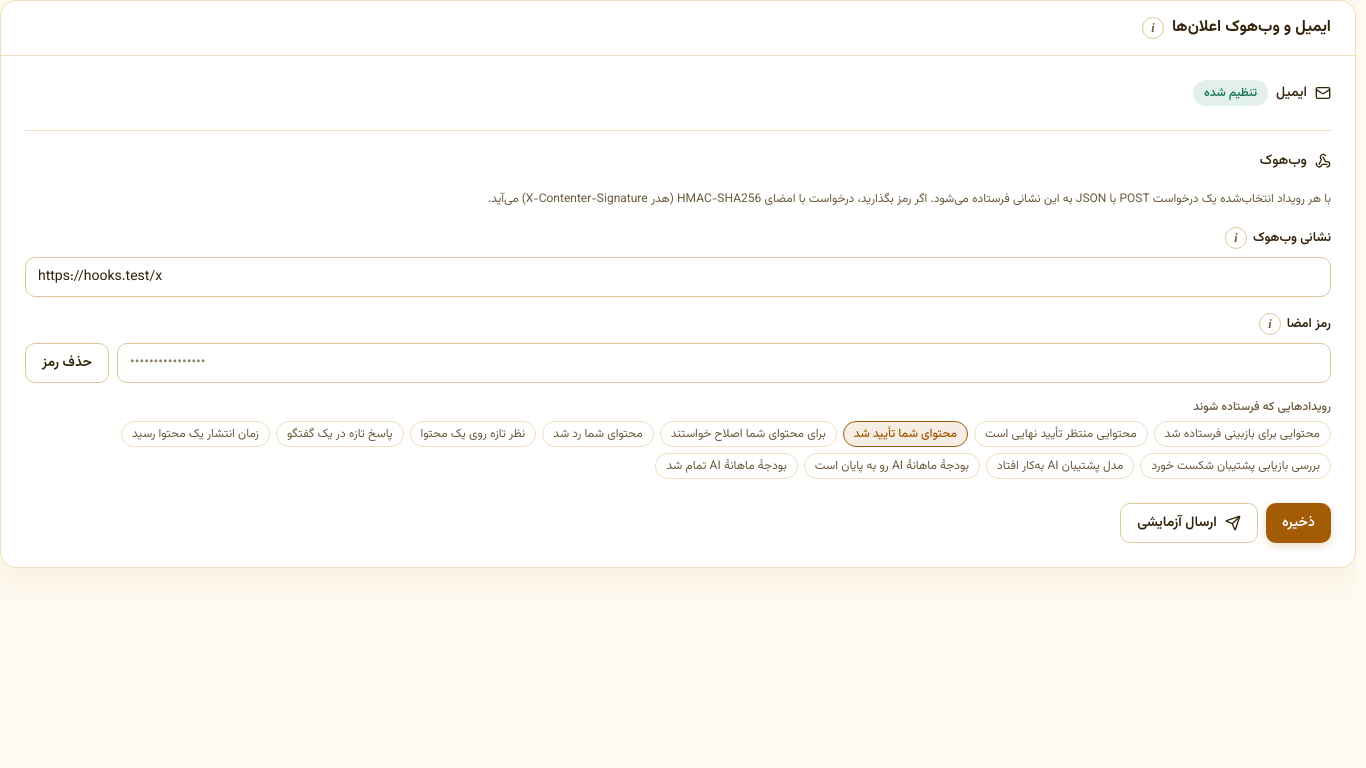
NotificationSettingsCard › refuses a secret that is too short before sending anything
Type "short" into the password field labelled "رمز امضا". click: (724, 363)
box: [117, 343, 1331, 383]
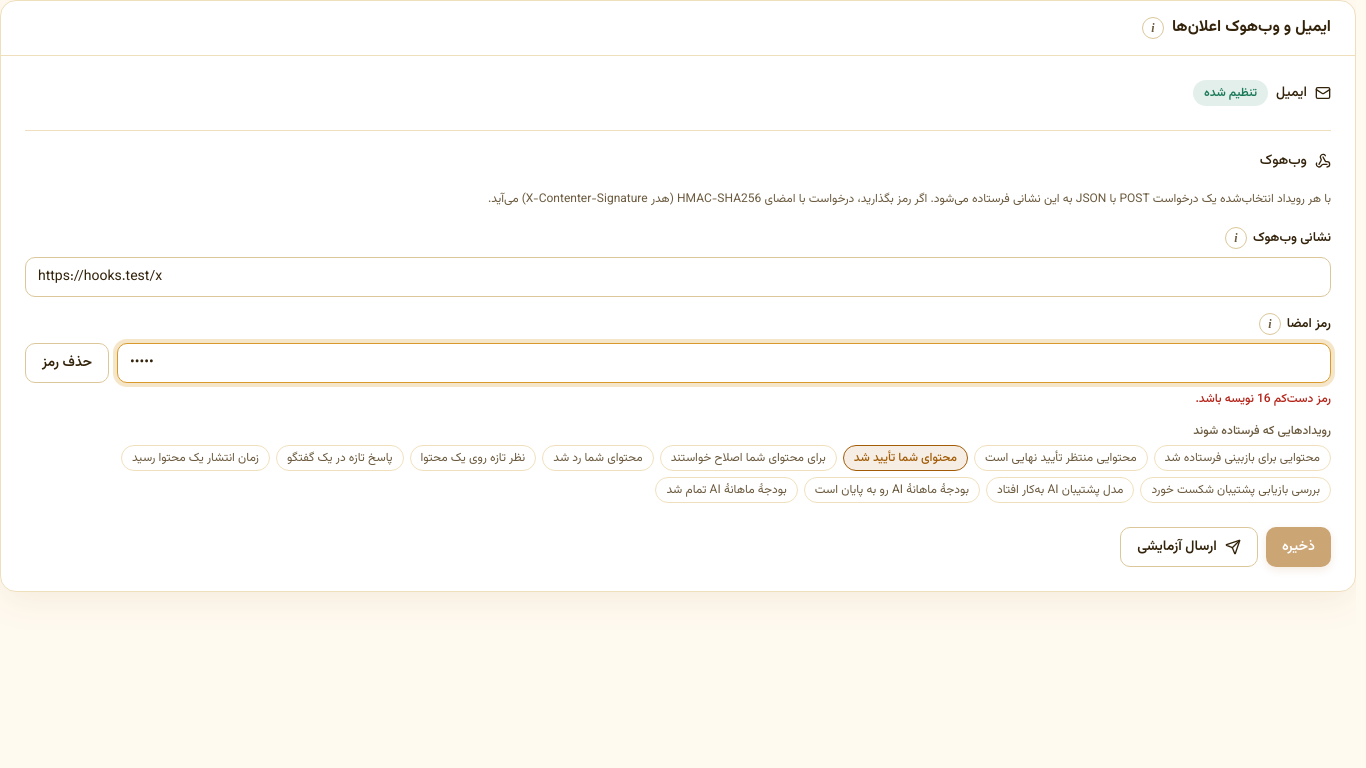
Expected: the button "ذخیره" is disabled, [1266, 527, 1331, 567]
